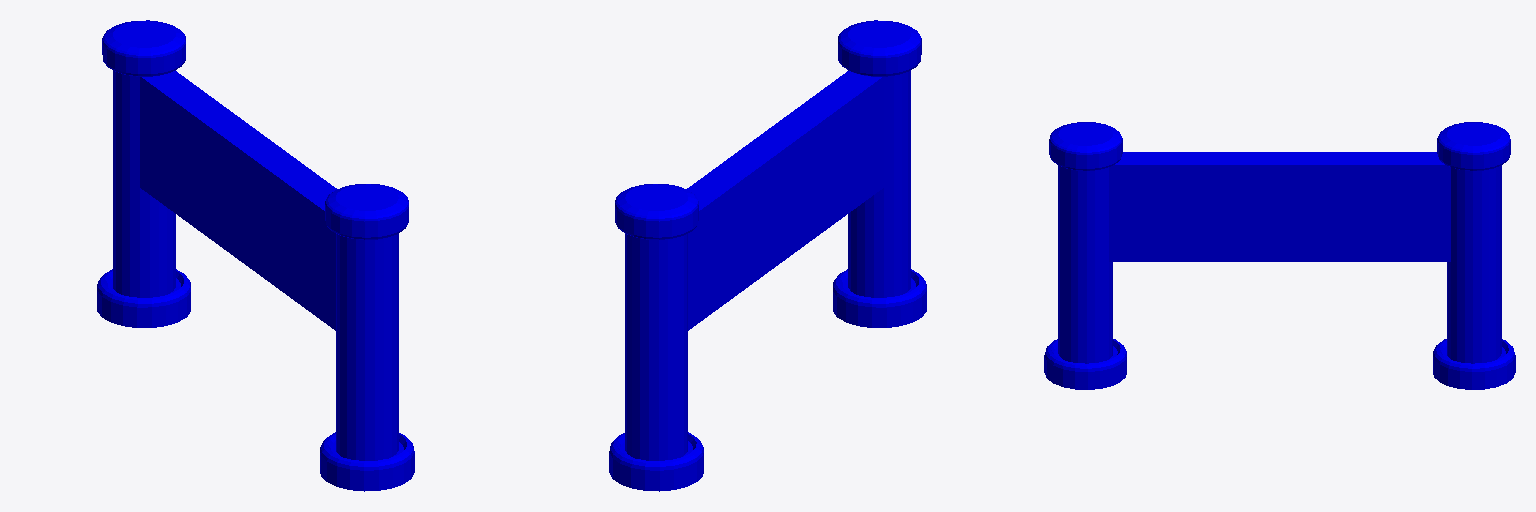
robot.urdf — bar:
<?xml version="1.0"?>
<robot name="bar">
  <link name="base">
   <contact>
      <lateral_friction value="1.0"/>
      <rolling_friction value="0.0"/>
      <contact_cfm value="0.0"/>
      <contact_erp value="1.0"/>
    </contact>
    <inertial>
      <origin rpy="0 0 0" xyz="0 0 0"/>
       <mass value="1.0"/>
       <inertia ixx="1" ixy="0" ixz="0" iyy="1" iyz="0" izz="1"/>
    </inertial>
    <visual>
      <geometry>
        <mesh filename="OBJ/bar.obj" scale="1 1 1"/>
      </geometry>
      <origin rpy="0 0 0" xyz="0 0 0" />
      <material name="blue"/>
    </visual>
    <collision>
      <origin rpy="0 0 0" xyz="0 0 0"/>
      <geometry>
         <mesh filename="OBJ/bar.obj" scale="1 1 1"/>
      </geometry>
    </collision>
  </link>

<material name="red"><color rgba="0.99 0 0 1"/></material>
<material name="orange"><color rgba="1 0.5 0 1"/></material>
<material name="yellow"><color rgba="0.95 0.95 0 1"/></material>
<material name="green"><color rgba="0 0.99 0 1"/></material>
<material name="skyblue"><color rgba="0.53 0.81 0.92 1"/></material>
<material name="blue"><color rgba="0 0 0.99 1"/></material>
<material name="purple"><color rgba="0.95 0 0.95 1"/></material>



</robot>

--- What the picture shows (computed from the rendered views, not written in the file) ---
3 views of the same robot in one strip: view 1: azimuth 30°, elevation 25°; view 2: azimuth 150°, elevation 25°; view 3: azimuth 270°, elevation 25° (orthographic).
Model bar with 1 links and 0 joints (none), rooted at base, posed every joint at zero.
Links seen in each view (by area): view 1: base; view 2: base; view 3: base.
Link boxes in pixels (x1=…): base: x1=97, y1=20, x2=414, y2=491; base: x1=609, y1=20, x2=926, y2=491; base: x1=1044, y1=122, x2=1515, y2=389.
Size in the robot's own frame: 0.0247 by 0.1403 by 0.0784 metres.
1 mesh visuals loaded from 1 distinct referenced files (1 OBJ).